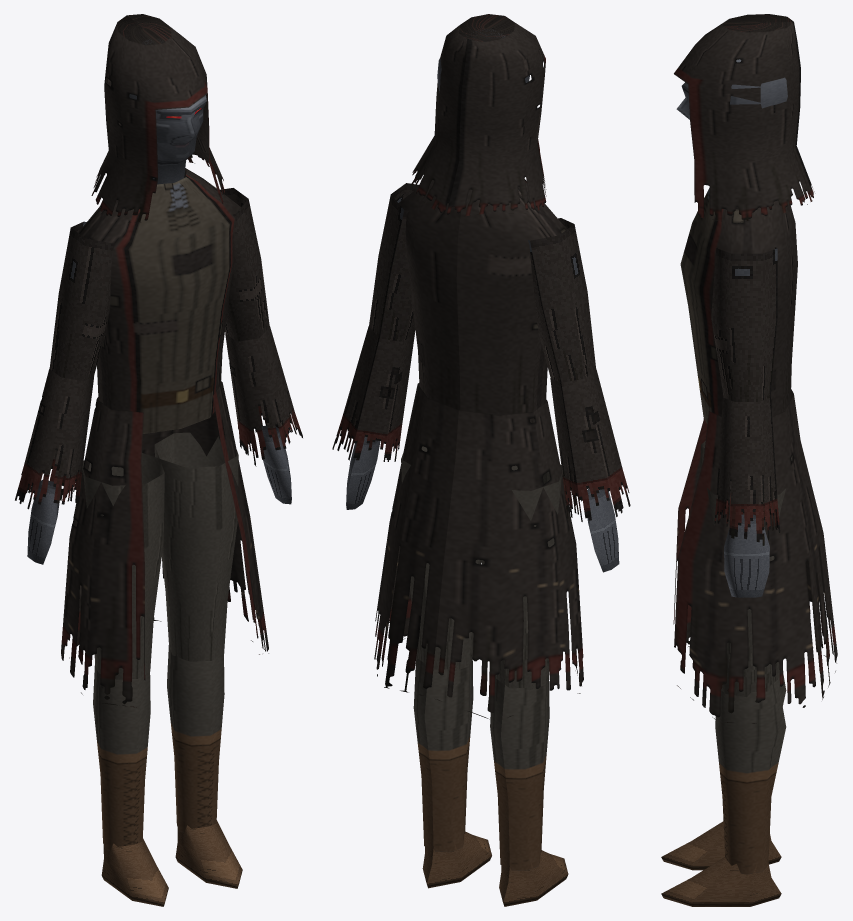
The model's file is wanderer_ragged_soot.obj.
The picture shows the model from 3 angles, left to right: view 1: azimuth 30°, elevation 25°; view 2: azimuth 150°, elevation 25°; view 3: azimuth 270°, elevation 25°; orthographic projection. The views are drawn at different scales.
Parts seen in each view (by area): view 1: Chest, Groin, Upper_Leg_L, Hood, Knee_Ankle_L, Knee_Ankle_R, Upper_Arm_R, Forearm_R, Forearm_L, Upper_Leg_R, Upper_Arm_L, Foot_R (+4 smaller); view 2: Groin, Chest, Hood, Knee_Ankle_R, Knee_Ankle_L, Upper_Arm_R, Forearm_R, Forearm_L, Upper_Arm_L, Foot_R, Foot_L, Upper_Leg_R (+3 smaller); view 3: Groin, Hood, Chest, Knee_Ankle_L, Upper_Arm_L, Forearm_L, Foot_L, Hand_L, Foot_R, Upper_Leg_L, Head.
Part boxes in pixels (<box>): Chest: <box>78,168,240,433</box>; Groin: <box>61,381,268,707</box>; Upper_Leg_L: <box>154,432,238,661</box>; Hood: <box>91,14,224,222</box>; Knee_Ankle_L: <box>167,645,224,832</box>; Knee_Ankle_R: <box>93,663,150,850</box>; Upper_Arm_R: <box>49,221,115,381</box>; Forearm_R: <box>15,369,93,509</box>; Forearm_L: <box>225,326,302,466</box>; Upper_Leg_R: <box>82,453,164,679</box>; Upper_Arm_L: <box>220,188,269,341</box>; Foot_R: <box>101,836,168,906</box>; Groin: <box>374,383,583,719</box>; Chest: <box>398,179,566,422</box>; Hood: <box>411,14,546,216</box>; Knee_Ankle_R: <box>490,676,549,870</box>; Knee_Ankle_L: <box>413,658,473,852</box>; Upper_Arm_R: <box>528,218,596,382</box>; Forearm_R: <box>550,370,630,521</box>; Forearm_L: <box>332,326,414,461</box>; Upper_Arm_L: <box>369,183,418,341</box>; Foot_R: <box>499,850,568,906</box>; Foot_L: <box>422,831,491,888</box>; Upper_Leg_R: <box>481,464,562,690</box>; Groin: <box>673,389,837,723</box>; Hood: <box>674,14,814,222</box>; Chest: <box>680,188,797,423</box>; Knee_Ankle_L: <box>715,680,786,874</box>; Upper_Arm_L: <box>711,247,777,401</box>; Forearm_L: <box>714,397,780,545</box>; Foot_L: <box>661,857,781,906</box>; Hand_L: <box>724,514,769,597</box>; Foot_R: <box>661,821,781,870</box>; Upper_Leg_L: <box>707,488,785,697</box>; Head: <box>676,59,787,119</box>.
Size of the model in its own units: 0.6316 by 1.84 by 0.348.
Materials: 10 (10 with a texture image).
